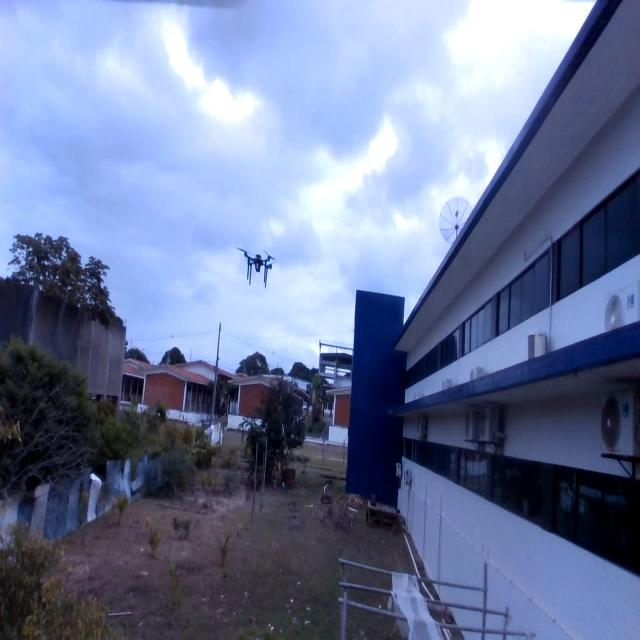-uav-: (234, 239, 284, 302)
